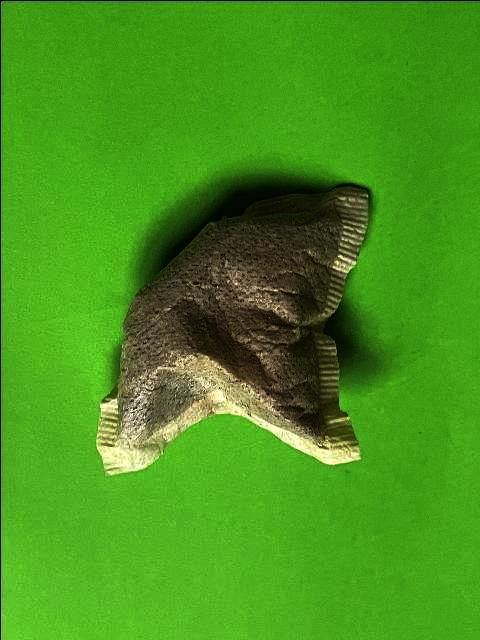teabag: (92, 180, 372, 478)
